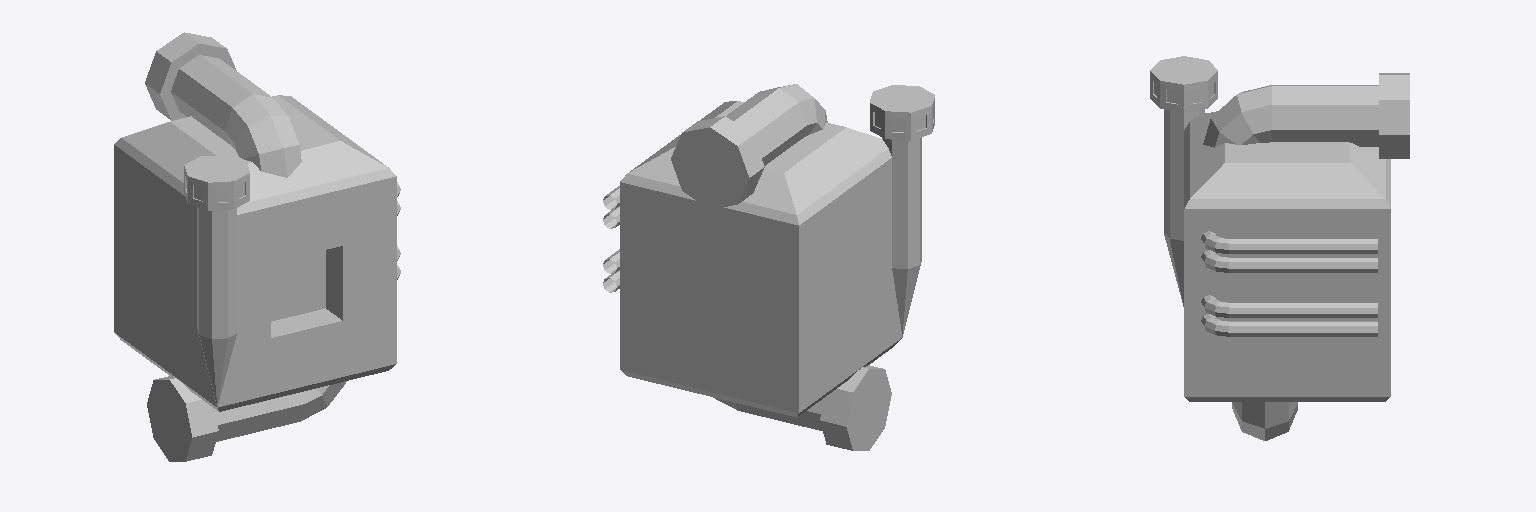
The model's file is GenPurge.obj.
3 views of the same model, side by side, from view 1: azimuth 30°, elevation 25°; view 2: azimuth 150°, elevation 25°; view 3: azimuth 270°, elevation 25° (orthographic).
Parts seen in each view (by area): view 1: GeneralPurge_Cube.009; view 2: GeneralPurge_Cube.009; view 3: GeneralPurge_Cube.009.
Boxes of the visible parts, box(x1,y1,x2,y2) form: GeneralPurge_Cube.009: box(114, 32, 400, 461); GeneralPurge_Cube.009: box(603, 84, 934, 450); GeneralPurge_Cube.009: box(1150, 56, 1409, 440).
Size of the model in its own units: 0.6477 by 0.9482 by 0.6274.